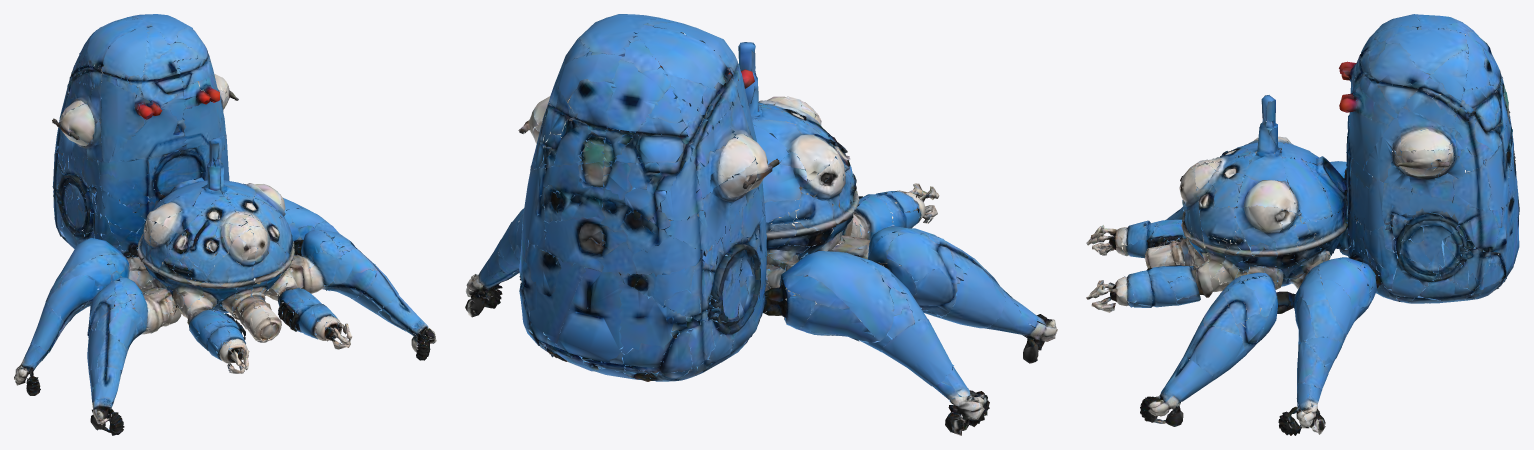
Rendered from Meshy_AI_Tachikoma_Robot_0913051052_texture.glb.
The picture shows the model from 3 angles, left to right: view 1: azimuth 30°, elevation 25°; view 2: azimuth 150°, elevation 25°; view 3: azimuth 270°, elevation 25°; orthographic projection. The views are drawn at different scales.
Visible parts, largest first — view 1: Mesh_0; view 2: Mesh_0; view 3: Mesh_0.
Part boxes in pixels (box(x1,y1,x2,y2)): Mesh_0: box(14, 14, 436, 435); Mesh_0: box(465, 14, 1057, 435); Mesh_0: box(1086, 14, 1519, 435).
Size of the model in its own units: 2 by 1.49 by 1.85.
1 material, 1 textured.
